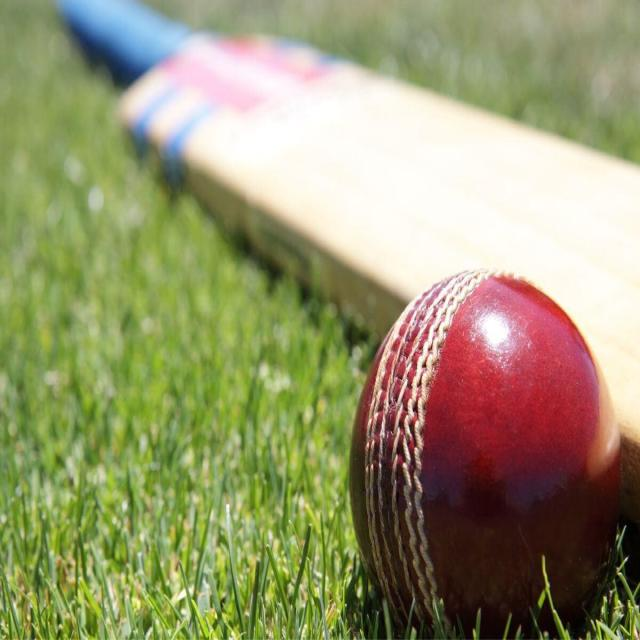ball: (347, 270, 621, 632)
